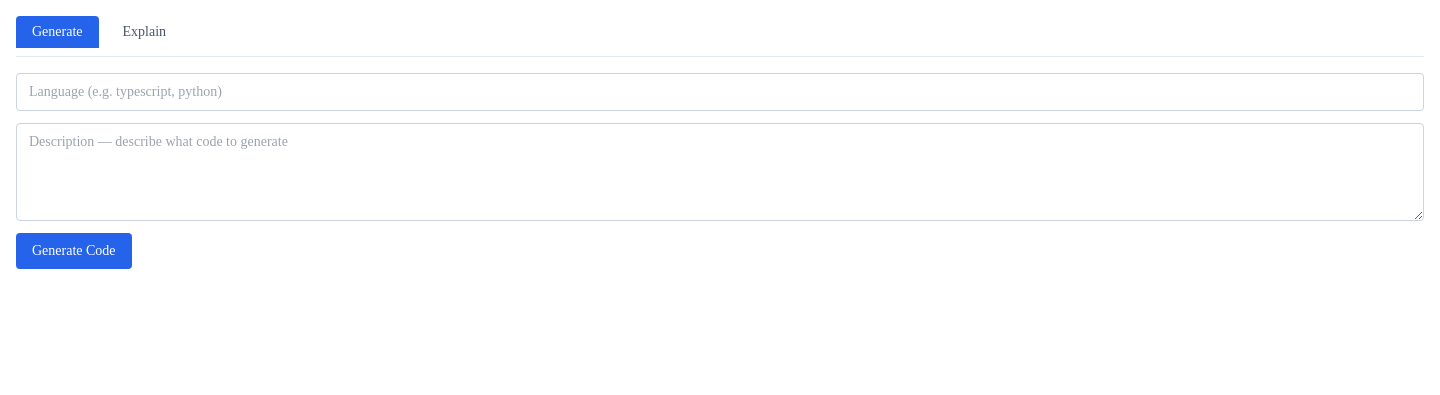
Test: CodeAssistant explain flow › shows error when explain fetch throws (network error)
Click the button "Explain" at (144, 32), box [106,16,182,48]
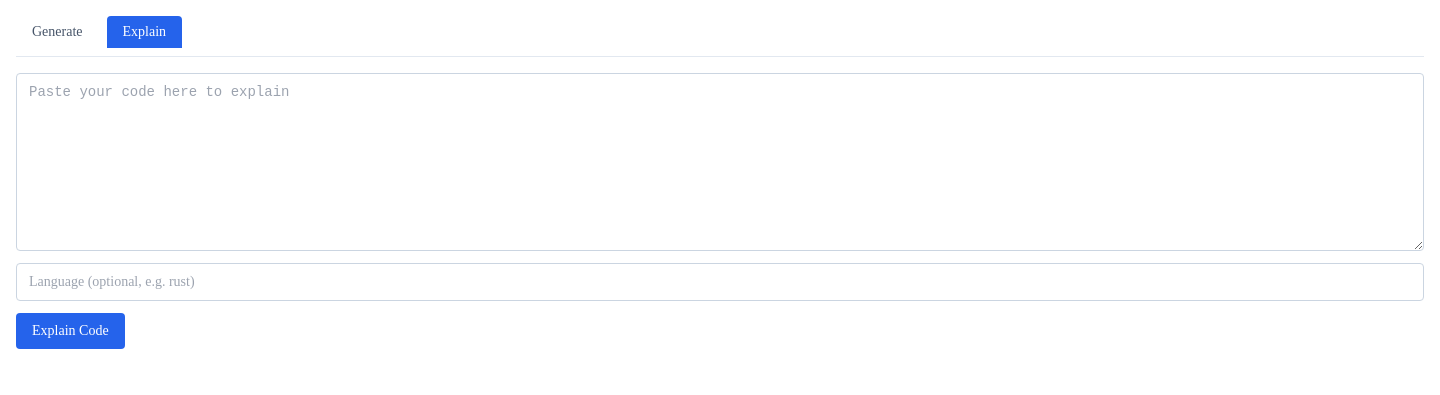
Type "const x = 1;" into the text box with placeholder "Paste your code here to explain" at (720, 162), box [16,73,1424,251]
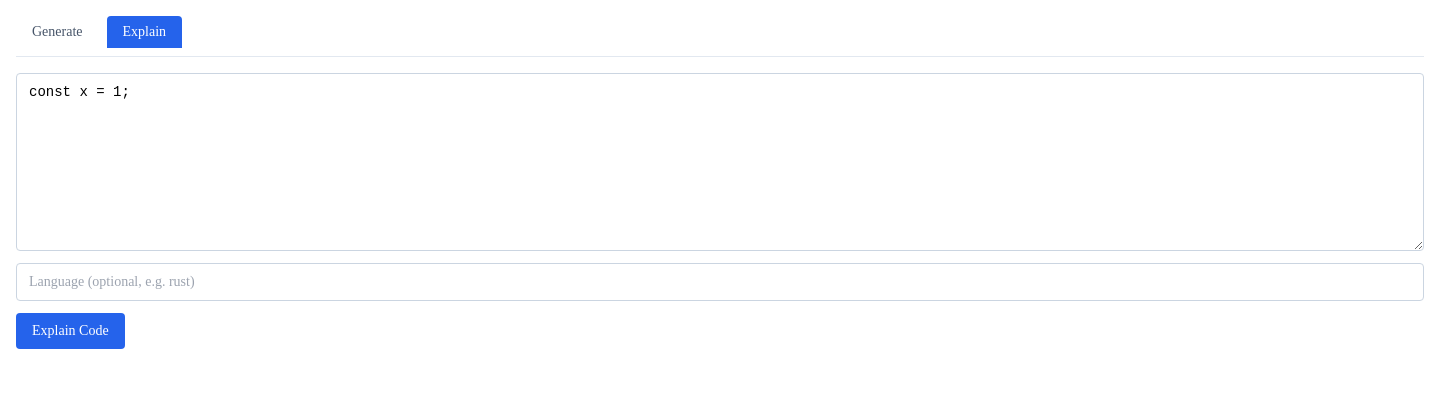
Click the button "Explain Code" at (70, 331), box [16,313,125,349]
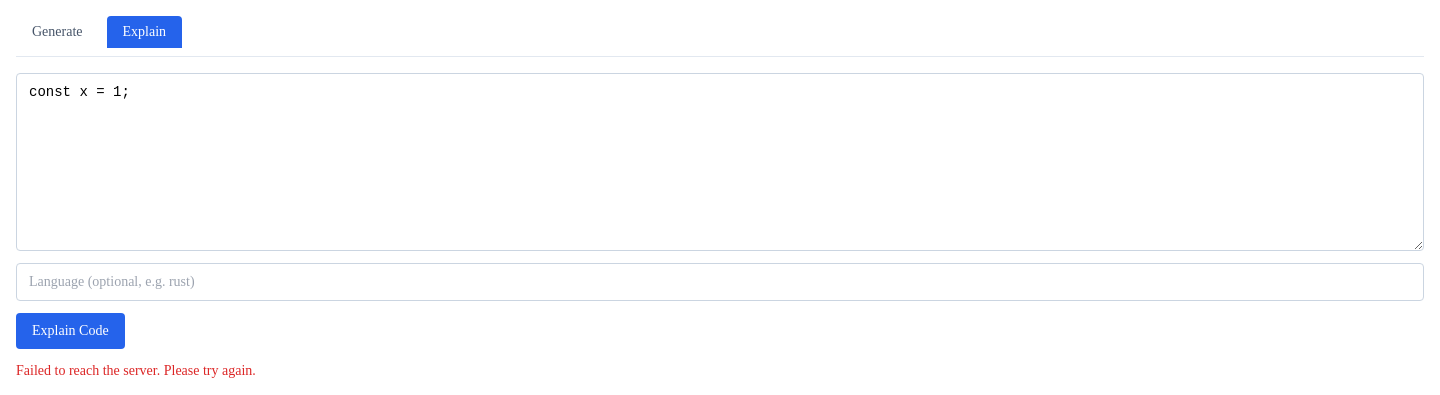
Now the text "Failed to reach the server. Please try again." is shown, box [16,363,256,378]
